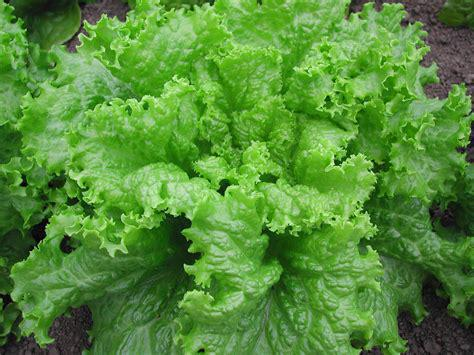HEALTHY: (16, 0, 474, 355)
